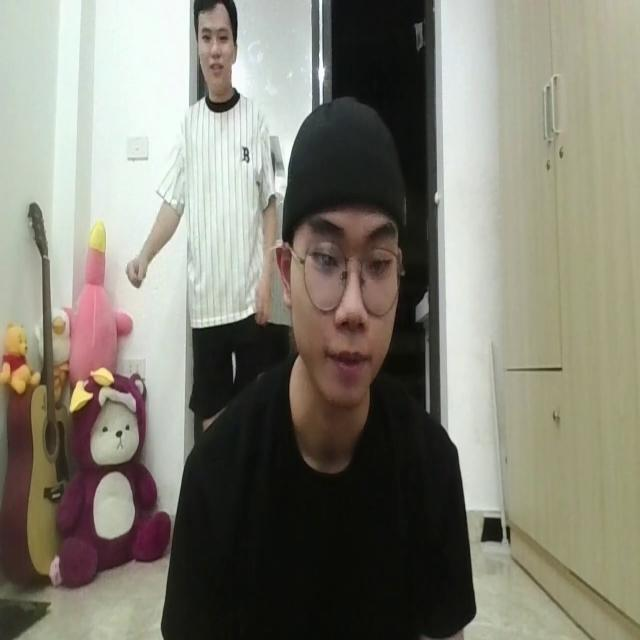extra_person: (121, 0, 284, 352)
student: (171, 93, 473, 640)
